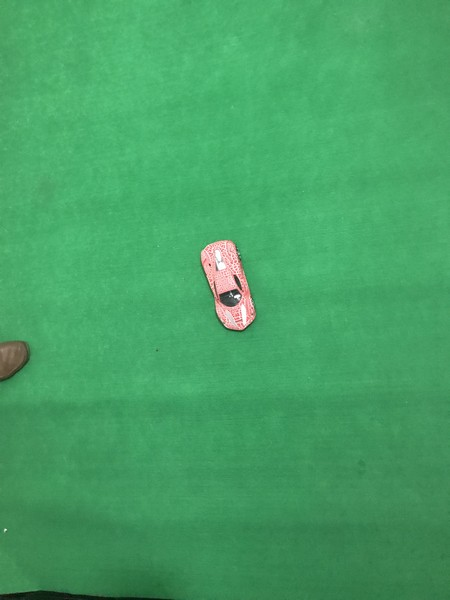RC: (199, 239, 261, 333)
